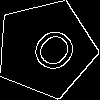O: (21, 24, 82, 84)
